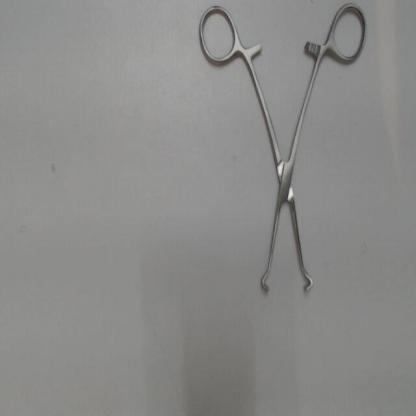Babcock Tissue Forceps: (191, 2, 371, 298)
